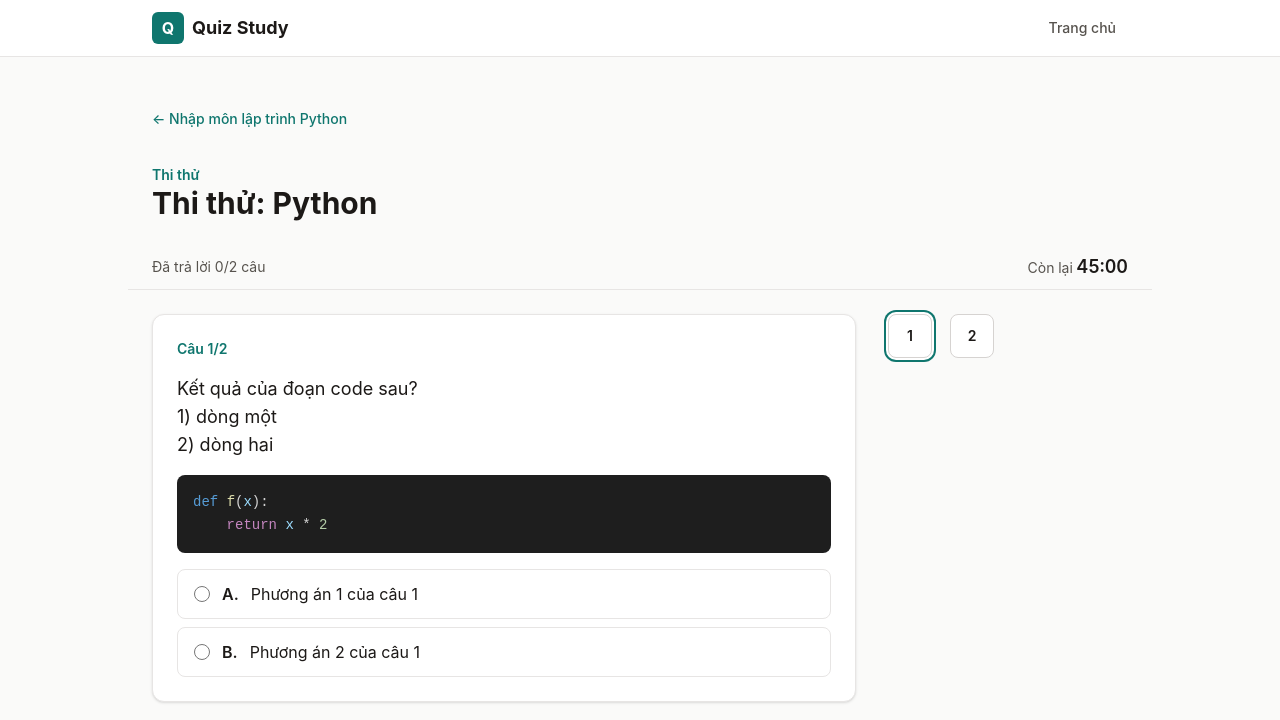
Test: AttemptPage – thi thử › saves a choice right away without revealing whether it is correct
The image size is (1280, 720).
Click the radio button labelled "A. Phương án 1 của câu 1".
click(202, 594)  # box [194,586,210,602]
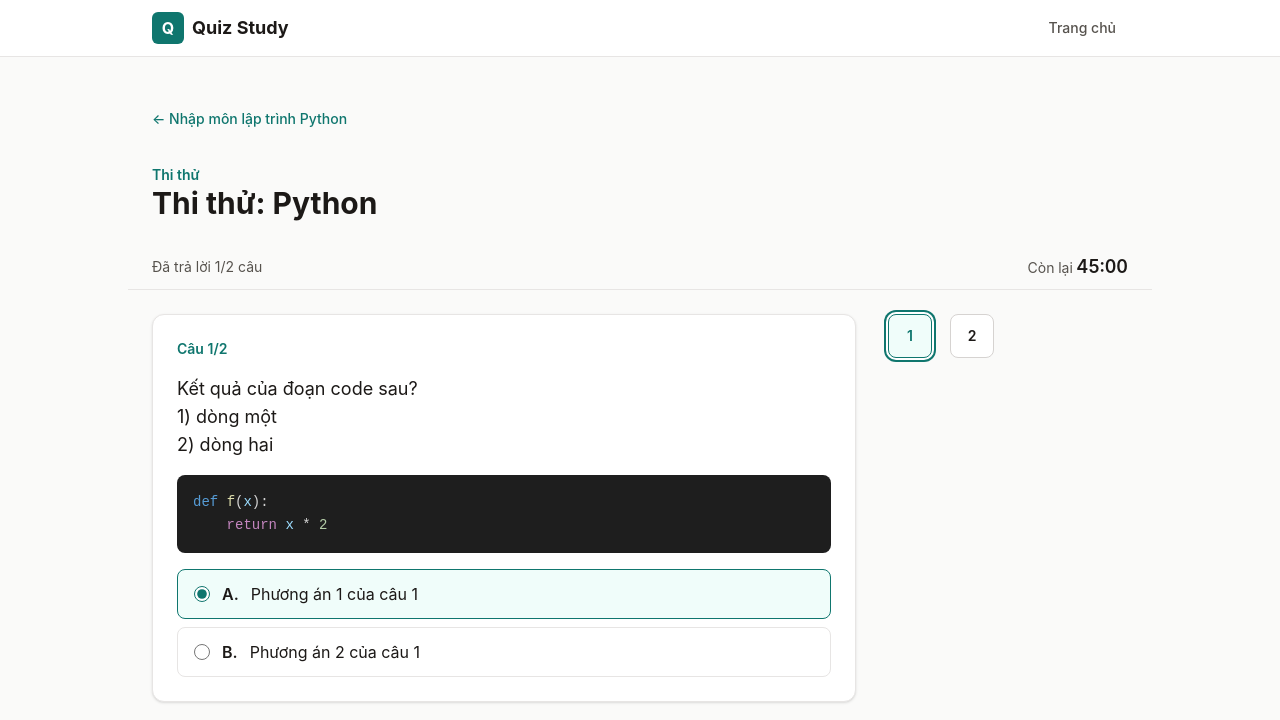
Now the radio button labelled "A. Phương án 1 của câu 1" is checked, box [194,586,210,602]
Now the text "Đã trả lời 1/2 câu" is shown, box [152,257,262,277]
Now the button named "Câu 1, đã trả lời" is shown, box [888,314,932,358]
